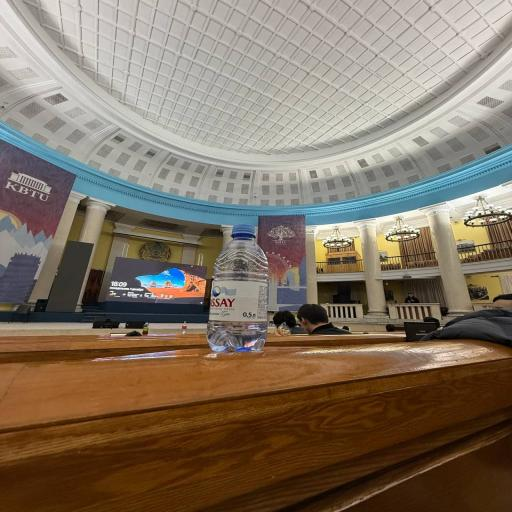bench: (207, 224, 268, 352), (142, 322, 149, 336), (181, 321, 187, 335)
crosswalk: (297, 304, 350, 334), (273, 310, 307, 334)
